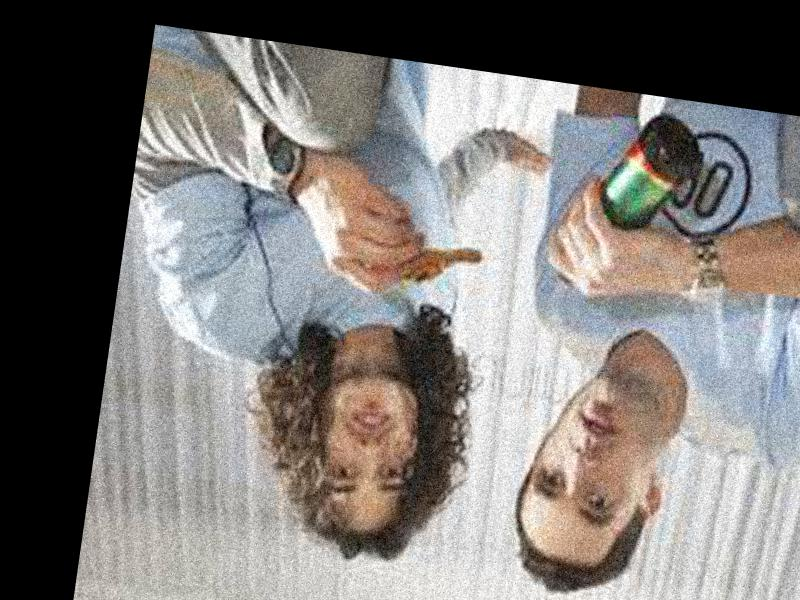Beer: (556, 101, 709, 301)
